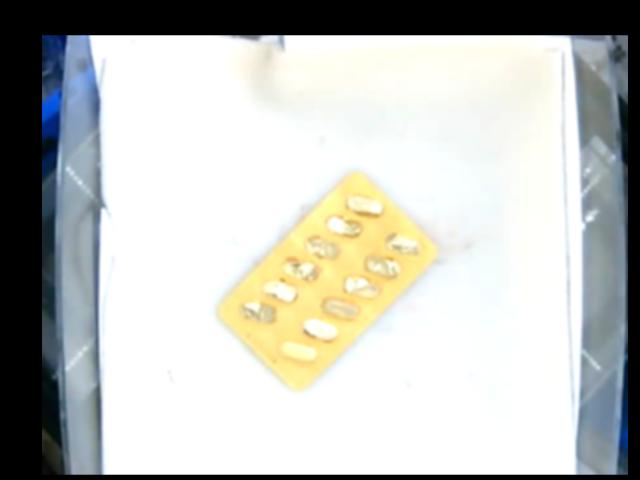Medicine: (220, 169, 429, 391)
